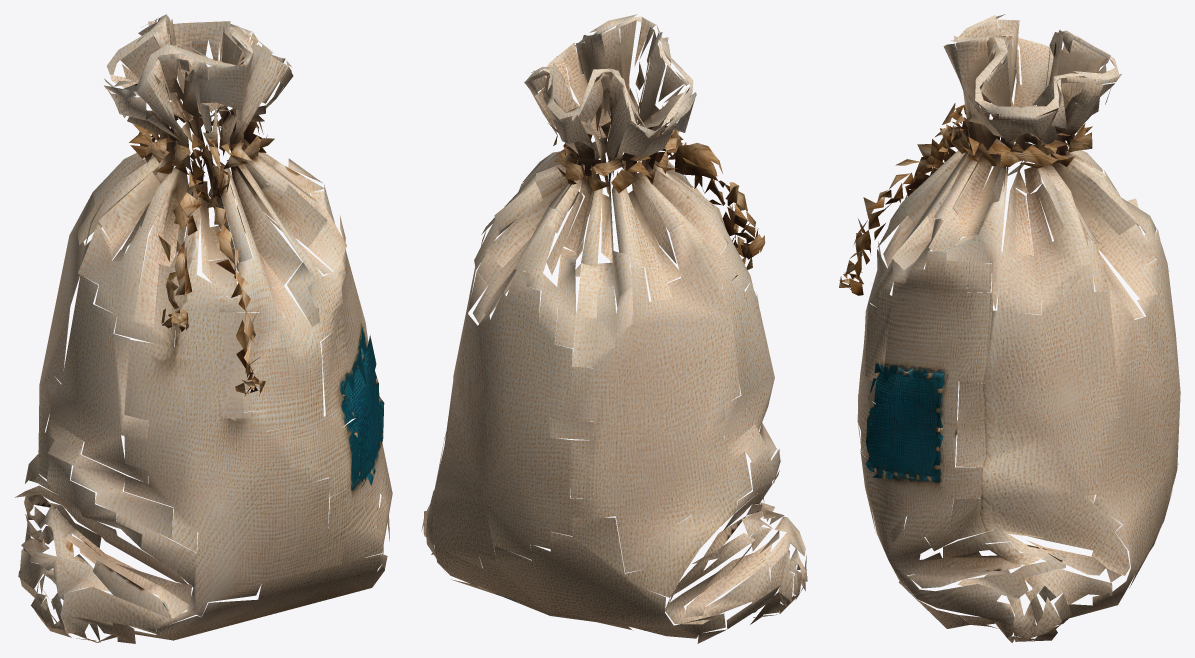
3 renders of one model, left to right at view 1: azimuth 30°, elevation 25°; view 2: azimuth 150°, elevation 25°; view 3: azimuth 270°, elevation 25°, orthographic. The views are drawn at different scales.
Visible parts, largest first — view 1: c02_Canvas_delivery_sack; view 2: c02_Canvas_delivery_sack; view 3: c02_Canvas_delivery_sack.
Part boxes in pixels (bbox=[...]): c02_Canvas_delivery_sack: bbox=[15, 14, 392, 643]; c02_Canvas_delivery_sack: bbox=[421, 14, 807, 643]; c02_Canvas_delivery_sack: bbox=[839, 14, 1180, 642].
Bounding box in the file's own units: 0.426 × 0.6536 × 0.3669.
Materials: 1 (1 with a texture image).
